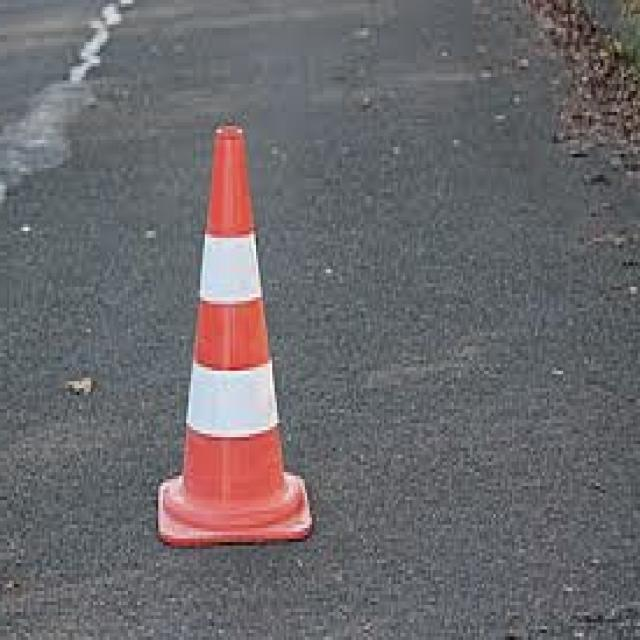cone: (148, 122, 313, 553)
